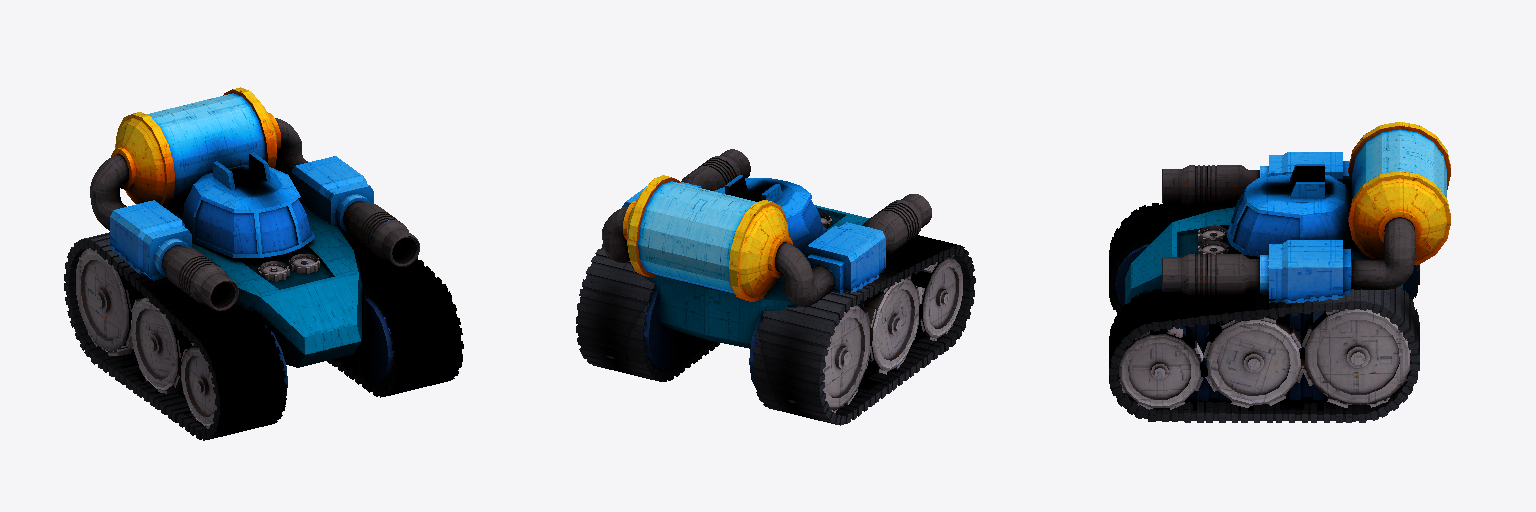
3 renders of one model, left to right at view 1: azimuth 30°, elevation 25°; view 2: azimuth 150°, elevation 25°; view 3: azimuth 270°, elevation 25°, orthographic.
Parts seen in each view (by area): view 1: Object001, Box042, Object004, Object003, Object002; view 2: Object001, Box042, Object003, Object004, Object002; view 3: Object001, Box042, Object004, Object003, Object002.
Boxes of the visible parts, x1=… form: Object001: x1=90, y1=87, x2=419, y2=396; Box042: x1=64, y1=232, x2=463, y2=440; Object004: x1=76, y1=248, x2=143, y2=355; Object003: x1=130, y1=297, x2=192, y2=393; Object002: x1=181, y1=343, x2=216, y2=428; Object001: x1=602, y1=149, x2=931, y2=389; Box042: x1=576, y1=235, x2=975, y2=425; Object003: x1=861, y1=276, x2=919, y2=374; Object004: x1=823, y1=305, x2=870, y2=412; Object002: x1=912, y1=255, x2=962, y2=340; Object001: x1=1115, y1=122, x2=1450, y2=400; Box042: x1=1109, y1=203, x2=1419, y2=422; Object004: x1=1301, y1=308, x2=1410, y2=407; Object003: x1=1203, y1=315, x2=1304, y2=407; Object002: x1=1118, y1=327, x2=1203, y2=409.
Size of the model in its own units: 121 by 102 by 147.
2 materials, 2 textured.